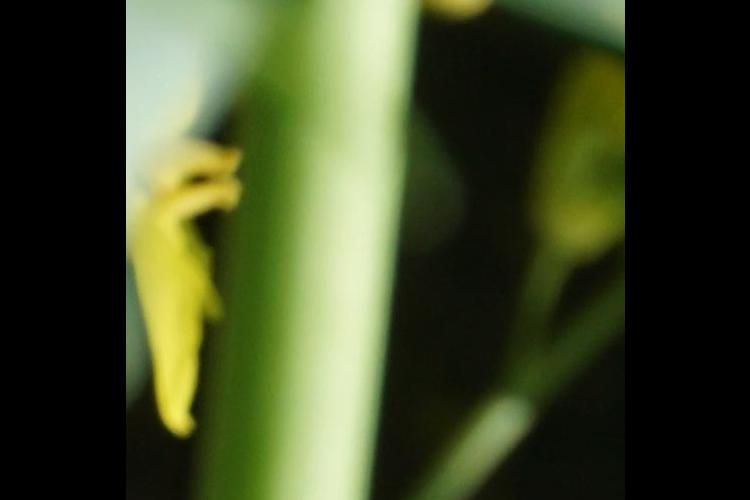yellow: (138, 132, 243, 448)
